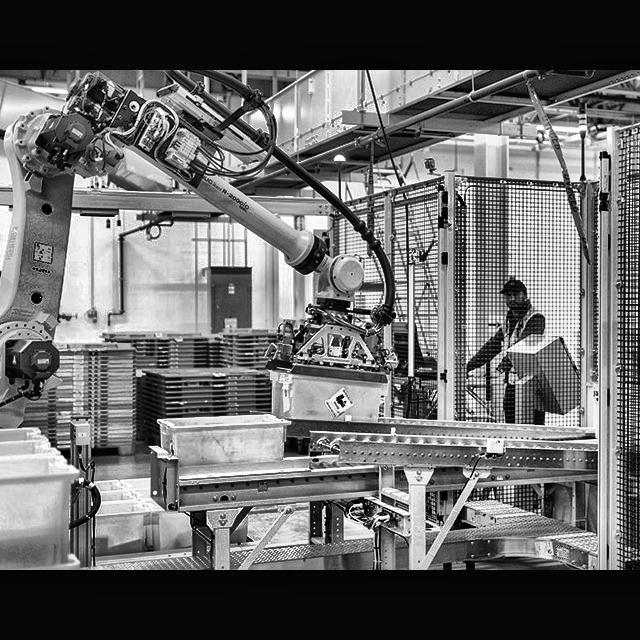robot: (0, 80, 379, 419)
